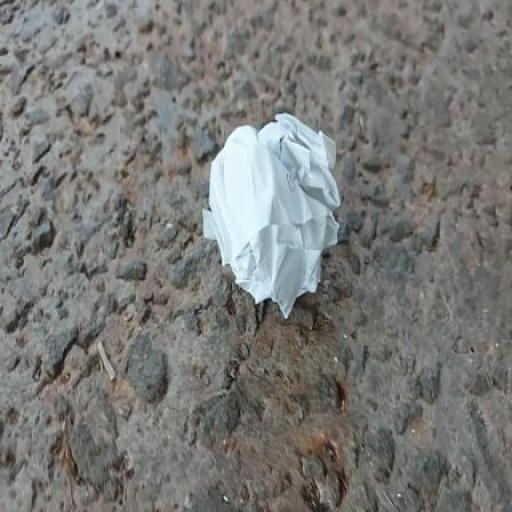paper: (160, 82, 442, 402)
